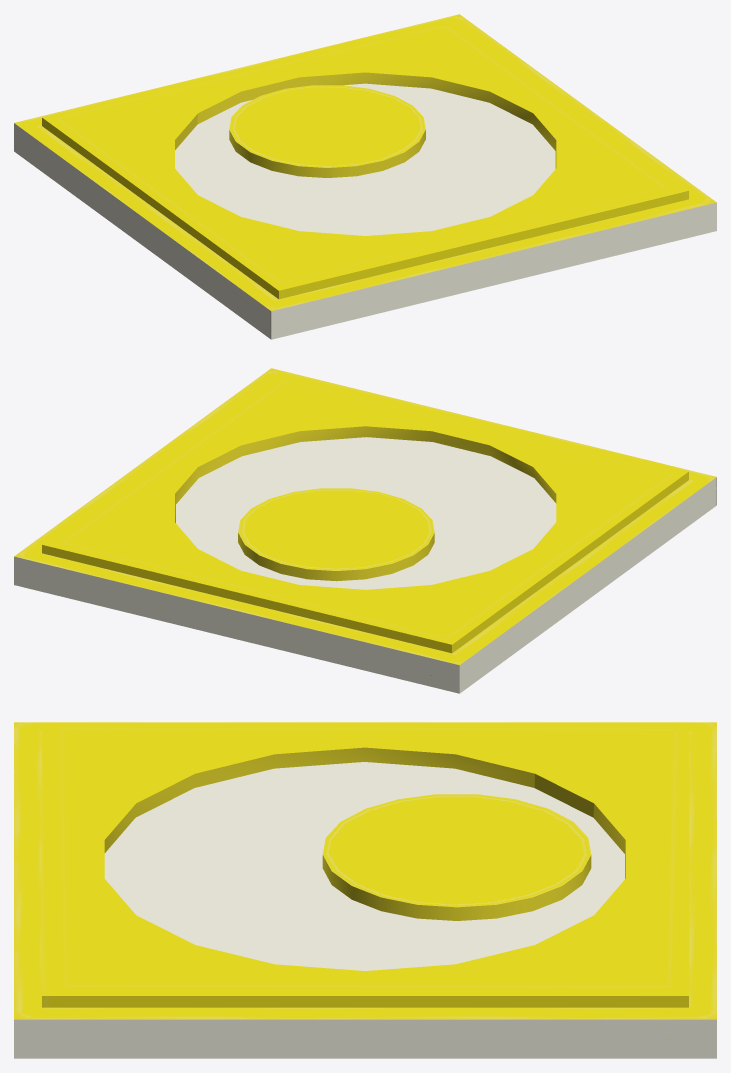
The model's file is Button_Yellow.fbx.
The picture shows the model from 3 angles, top to bottom: view 1: azimuth 30°, elevation 25°; view 2: azimuth 150°, elevation 25°; view 3: azimuth 270°, elevation 25°; orthographic projection. The views are drawn at different scales.
Parts seen in each view (by area): view 1: Box118; view 2: Box118; view 3: Box118.
Part boxes in pixels (x1,y1,x2,y2): Box118: [14, 14, 716, 339]; Box118: [14, 368, 716, 693]; Box118: [14, 722, 716, 1058].
Bounding box in the file's own units: 1 × 0.0887 × 1.
Materials: 1 (1 with a texture image).
